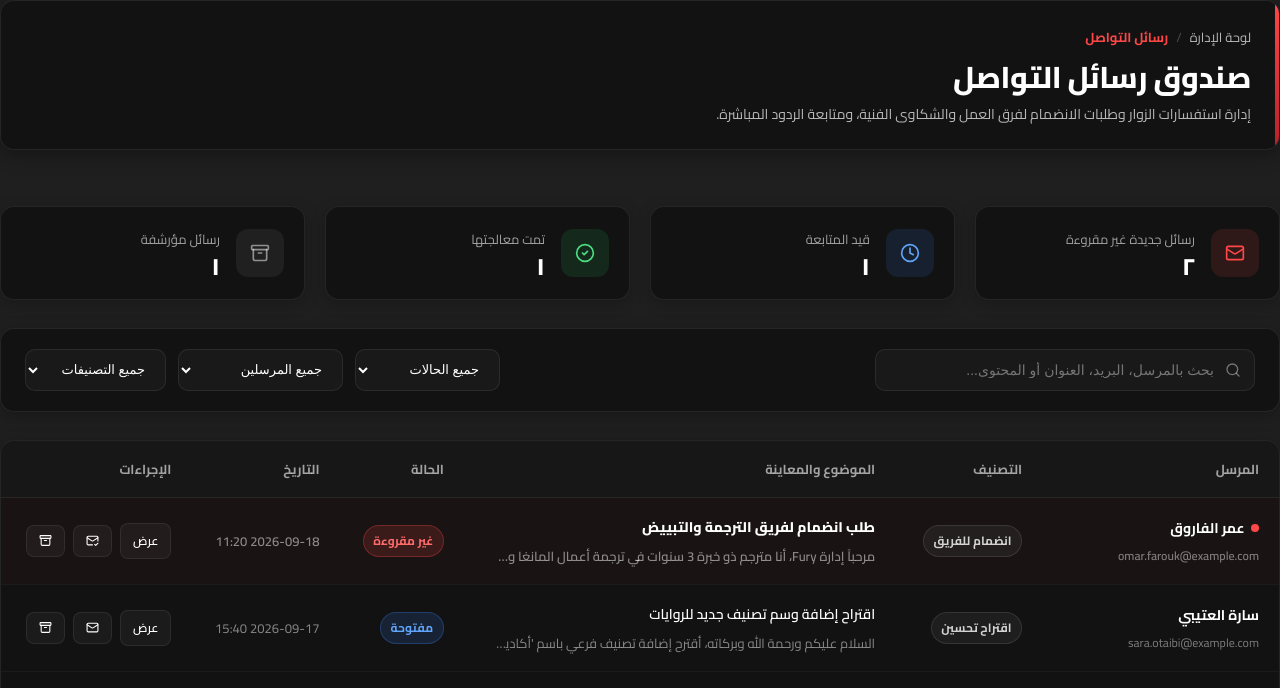
Test: AdminContact Component › filters messages by sender type
Select "أعضاء مسجلين فقط" in the dropdown named "تصفية حسب نوع المرسل" at (260, 370), box [178,349,343,391]
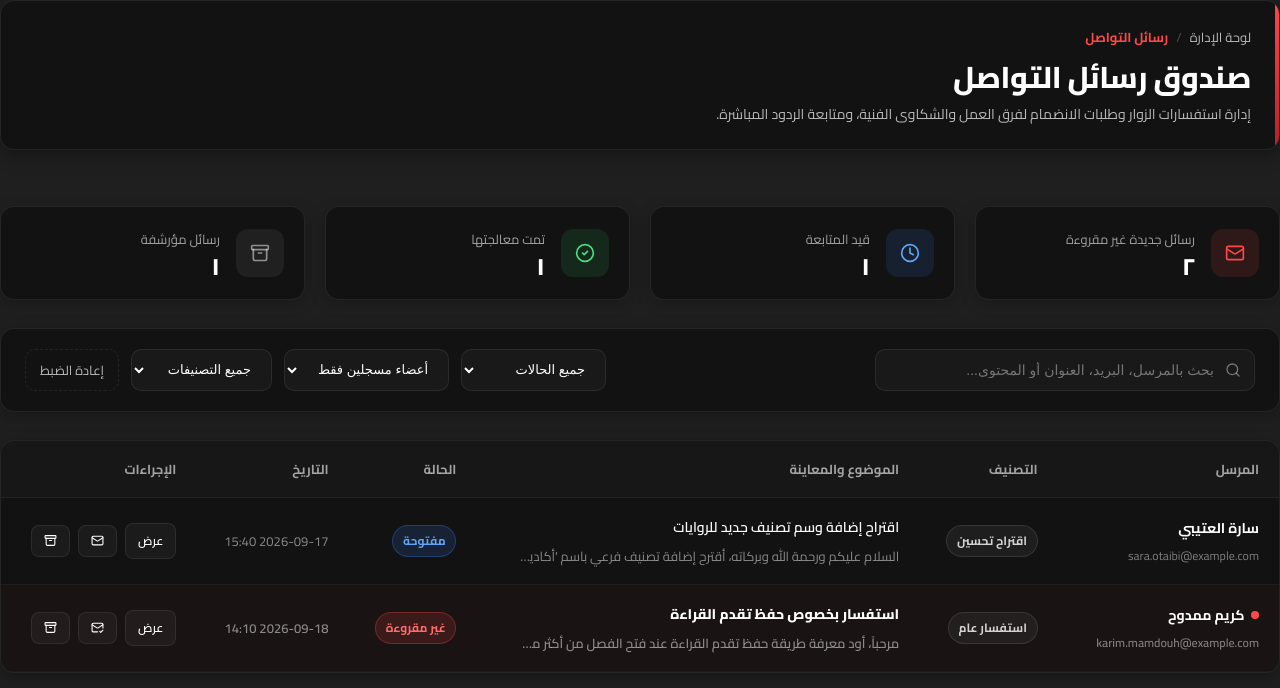
Expected: the link "اقتراح إضافة وسم تصنيف جديد للروايات" is shown, [673,514,899,540]
Expected: the link "طلب انضمام لفريق الترجمة والتبييض" is gone
